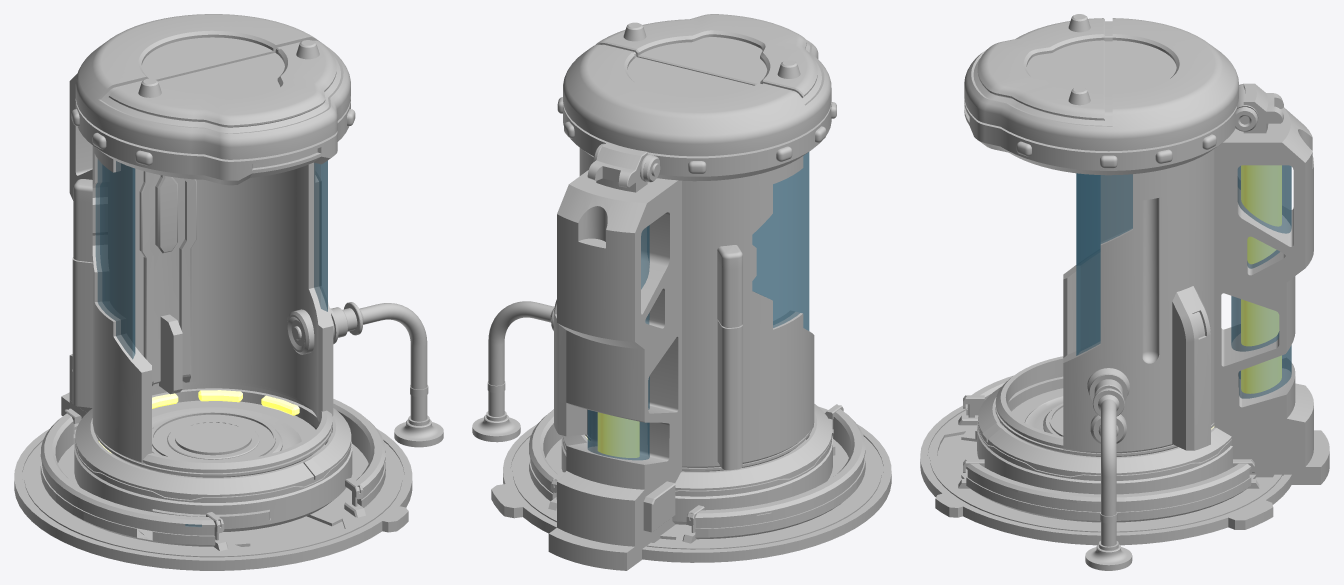
3 renders of one model, left to right at view 1: azimuth 30°, elevation 25°; view 2: azimuth 150°, elevation 25°; view 3: azimuth 270°, elevation 25°, orthographic. The views are drawn at different scales.
Visible parts, largest first — view 1: Portal_001; view 2: Portal_001; view 3: Portal_001.
Part boxes in pixels (<box>): Portal_001: <box>14,14,443,570</box>; Portal_001: <box>472,14,891,570</box>; Portal_001: <box>920,14,1329,570</box>.
Size of the model in its own units: 2.74 by 2.86 by 2.57.
